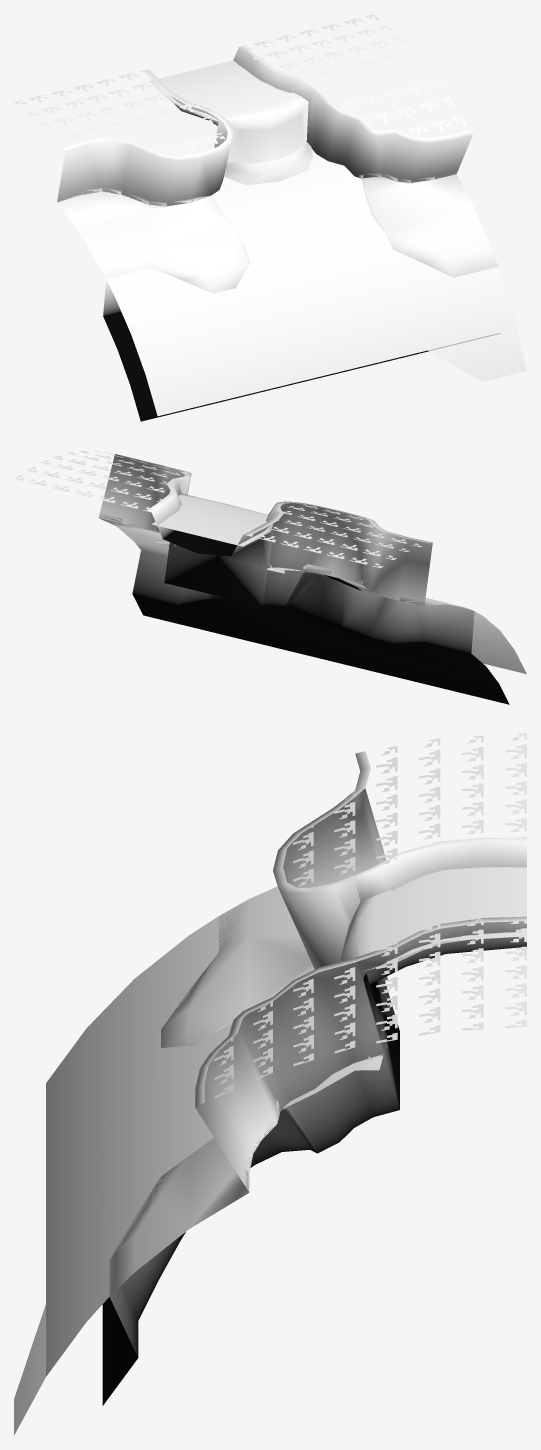
File: grd_Msw_s_R_1.dae
3 renders of one model, top to bottom at view 1: azimuth 30°, elevation 25°; view 2: azimuth 150°, elevation 25°; view 3: azimuth 270°, elevation 25°, orthographic. The views are drawn at different scales.
Visible parts, largest first — view 1: grd_Msw_s_R_1; view 2: grd_Msw_s_R_1; view 3: grd_Msw_s_R_1.
Part boxes in pixels (bbox=[...]): grd_Msw_s_R_1: bbox=[14, 14, 526, 421]; grd_Msw_s_R_1: bbox=[14, 450, 526, 704]; grd_Msw_s_R_1: bbox=[14, 733, 526, 1435].
Bounding box in the file's own units: 512 × 332 × 378.
10 materials, 1 textured.
